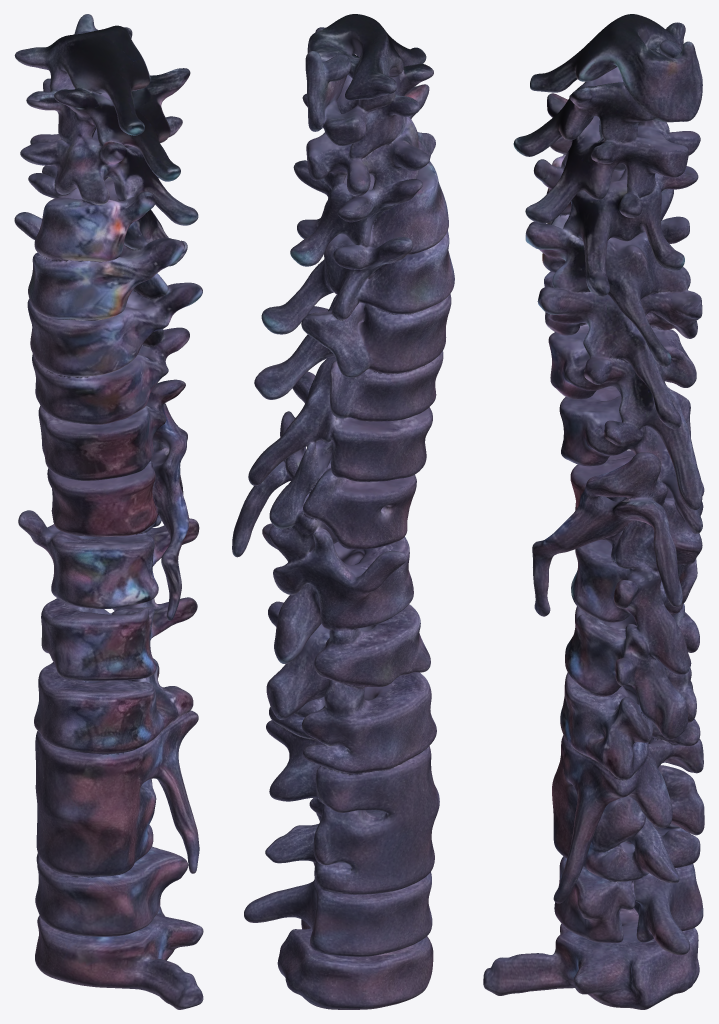
The model's file is spinenw-opt.glb.
3 views of the same model, side by side, from view 1: azimuth 30°, elevation 25°; view 2: azimuth 150°, elevation 25°; view 3: azimuth 270°, elevation 25° (orthographic). The views are drawn at different scales.
Visible parts, largest first — view 1: mesh_node; view 2: mesh_node; view 3: mesh_node.
Boxes of the visible parts, x1=… form: mesh_node: x1=14, y1=14, x2=203, y2=1009; mesh_node: x1=232, y1=14, x2=454, y2=1009; mesh_node: x1=483, y1=14, x2=704, y2=1009.
Size of the model in its own units: 0.3737 by 1.9 by 0.3976.
1 material, 1 textured.
